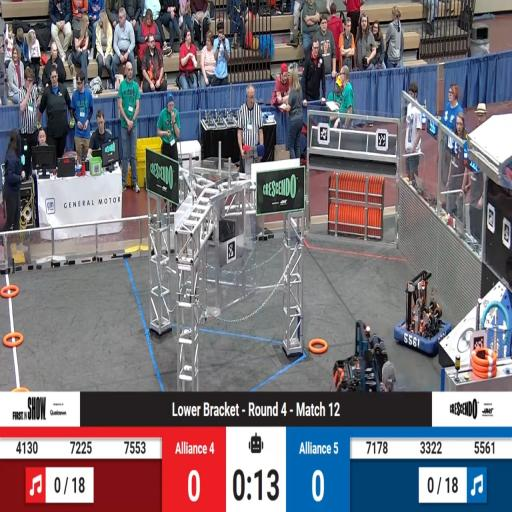robot: (395, 270, 451, 354), (334, 320, 388, 393)
